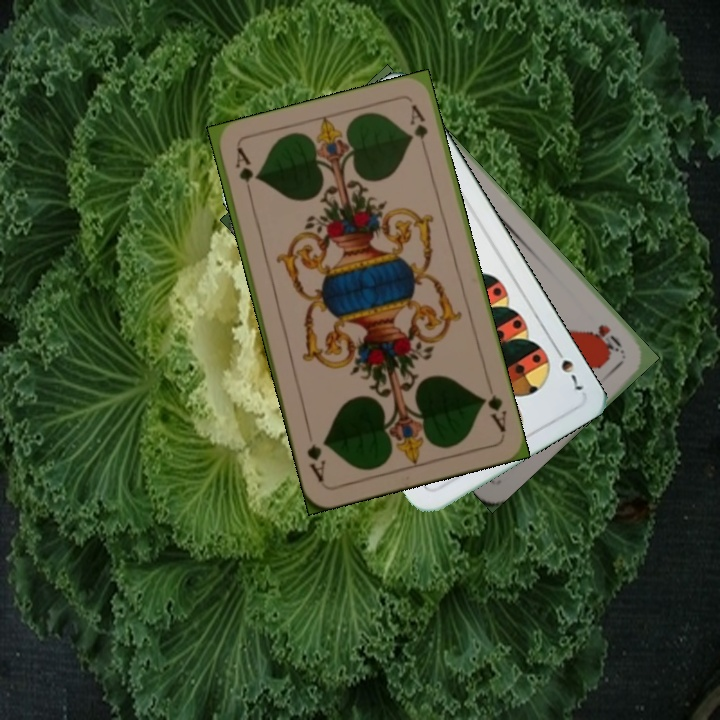GA: (231, 144, 256, 203), (478, 391, 510, 435)
HO: (587, 320, 627, 357)
S7: (550, 342, 586, 394)
